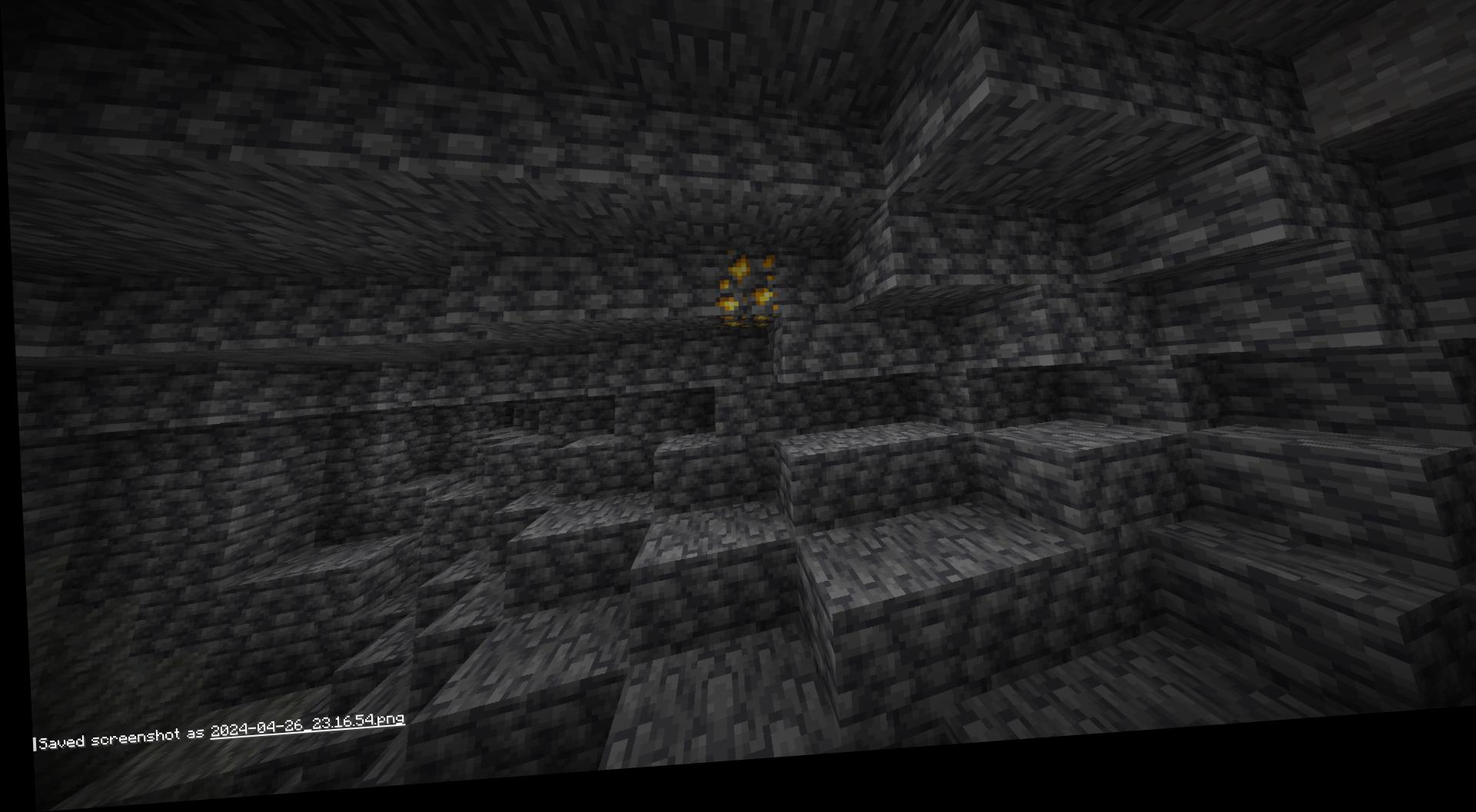gold ore: (711, 254, 777, 331)
